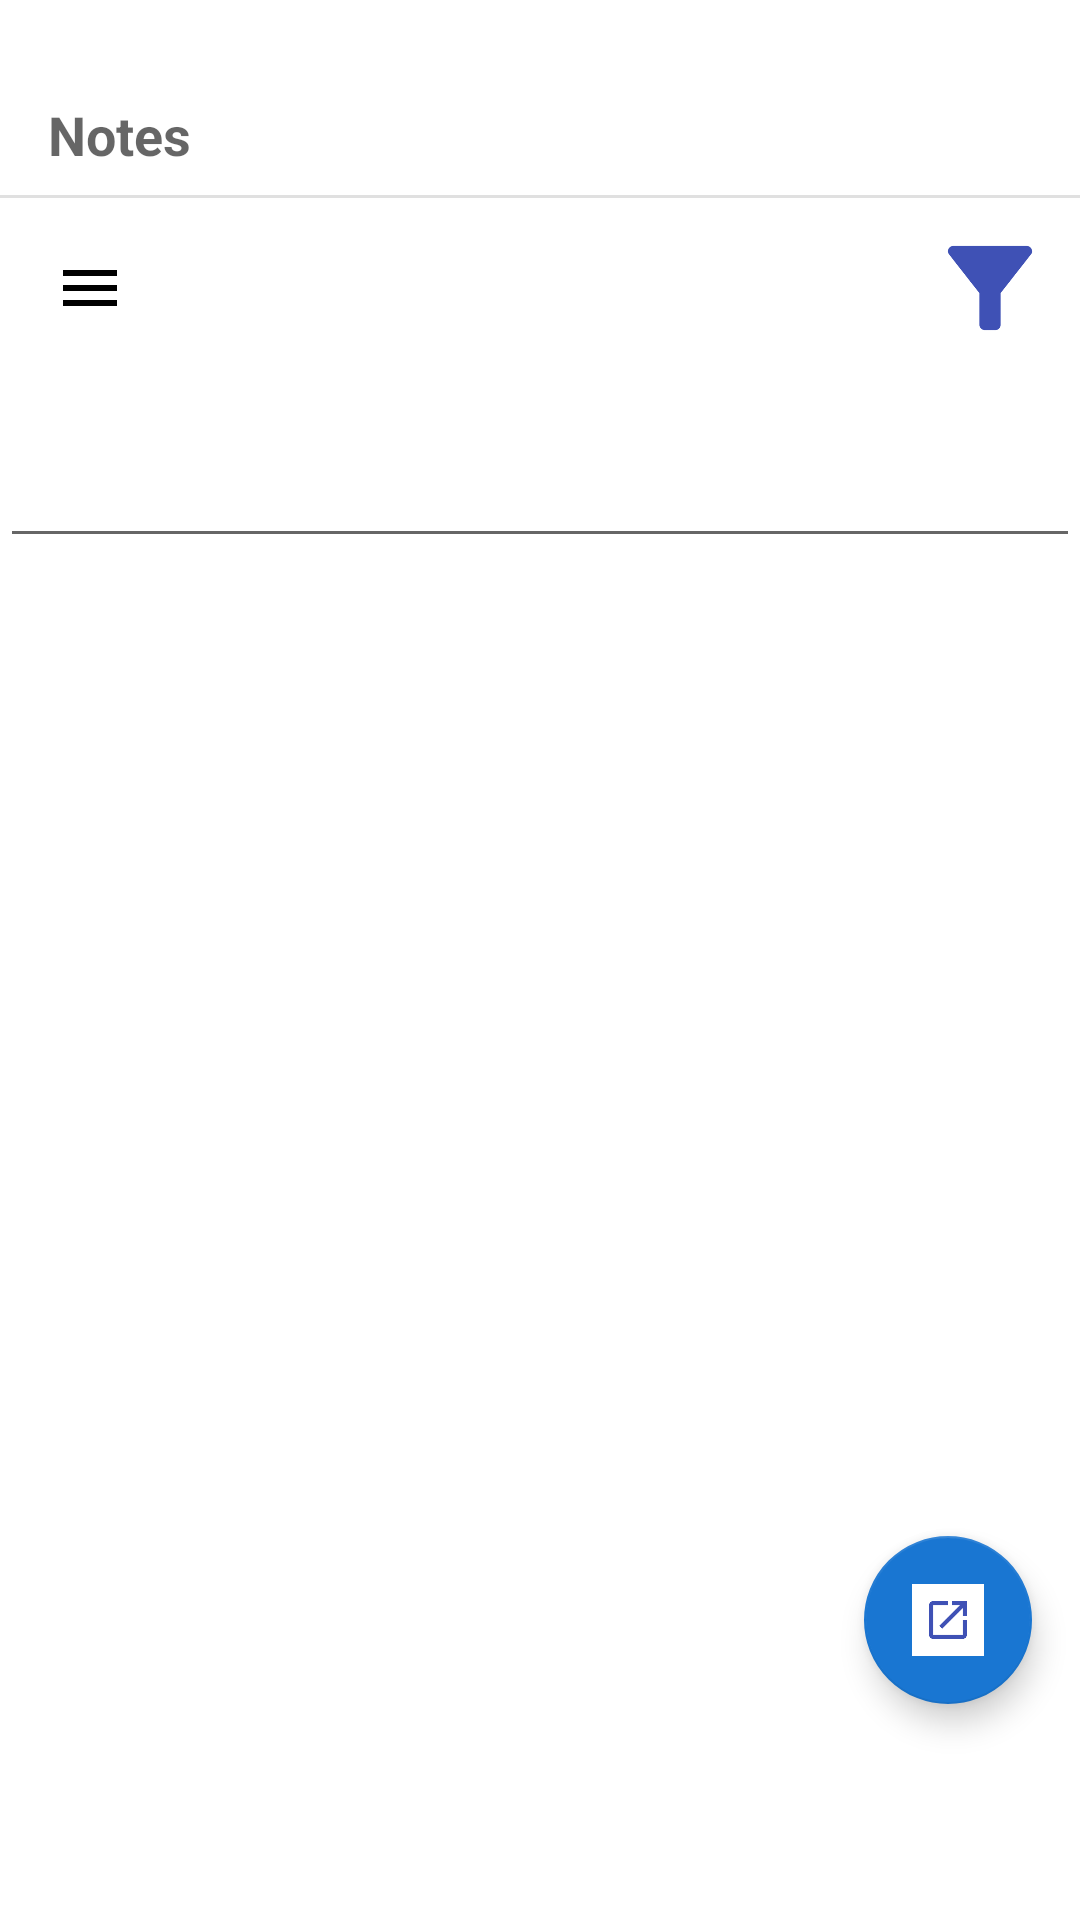

Where icons sit on this 1080px×1920px app screen, as (x1, y1, x2, y2):
Navigation Menu: (63, 270, 117, 306)
New note: (864, 1536, 1032, 1704)
